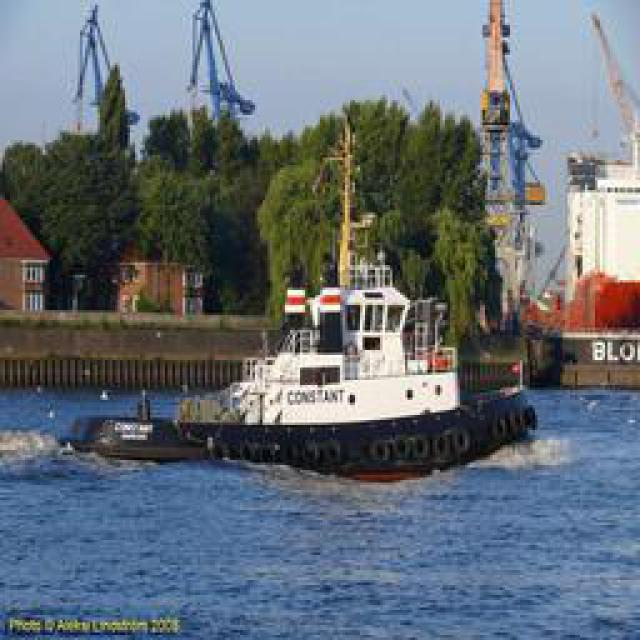Ship: (174, 259, 544, 482)
